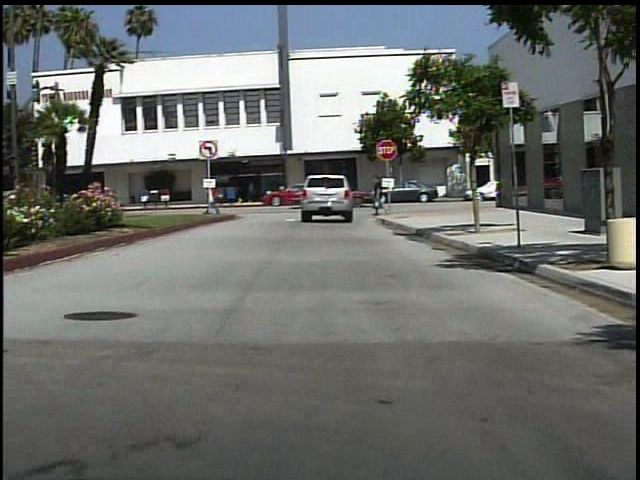person: (199, 178, 229, 220), (370, 174, 392, 219), (252, 179, 253, 204)
